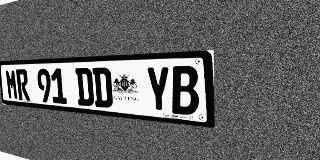1: (50, 68, 67, 104)
9: (36, 69, 52, 103)
B: (171, 66, 199, 116)
D: (92, 67, 113, 108), (75, 68, 94, 107)
M: (5, 69, 19, 100)
R: (16, 69, 30, 101)
Y: (145, 66, 171, 113)
